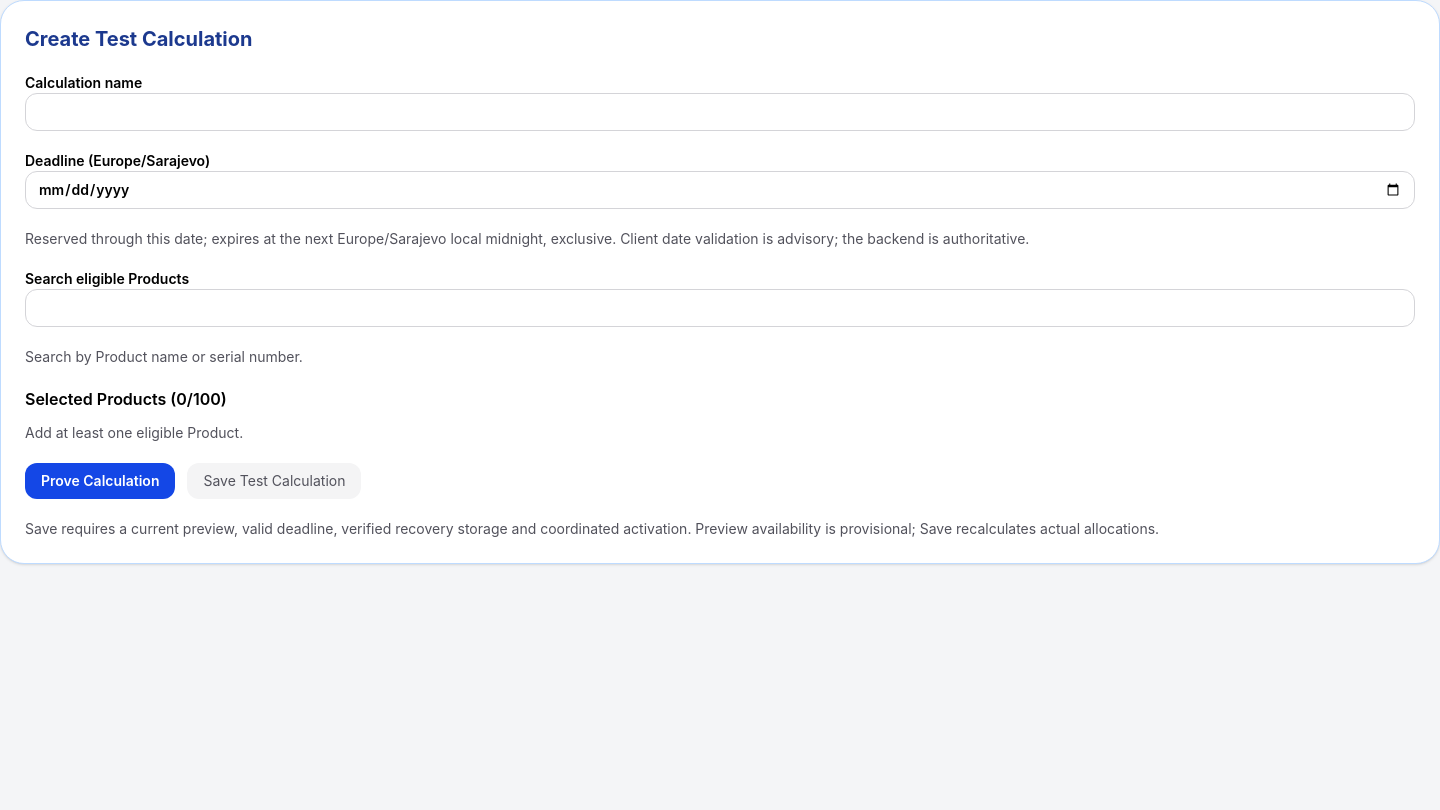
it: Test Calculation editor › searches via the mocked service, adds/removes and rejects duplicate selections
This screenshot has width=1440, height=810.
Type "Component" into the search field labelled "Search eligible Products" at (720, 308), box x1=25 y1=289 x2=1415 y2=327
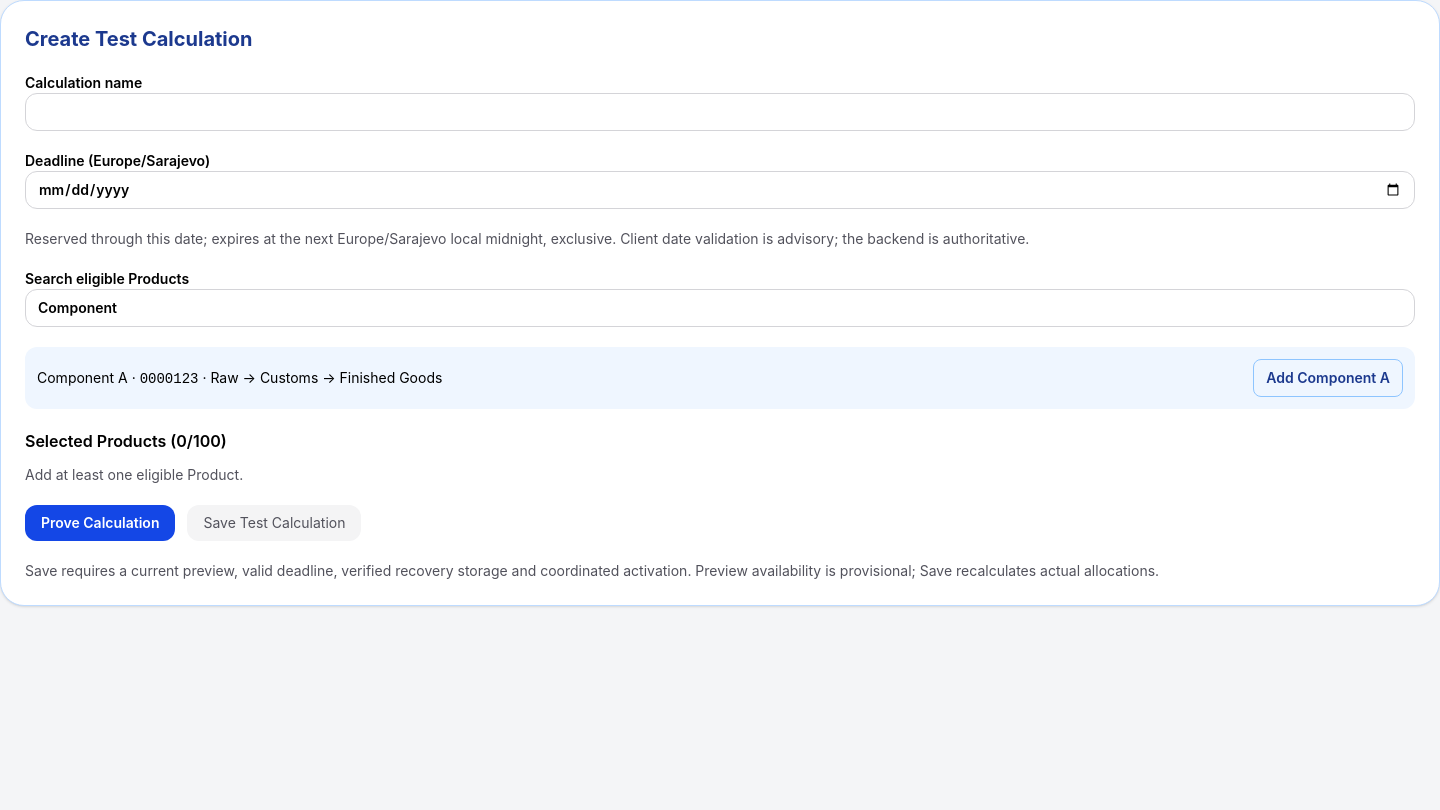
Click the button "Add Component A" at (1328, 378), box x1=1253 y1=359 x2=1403 y2=397
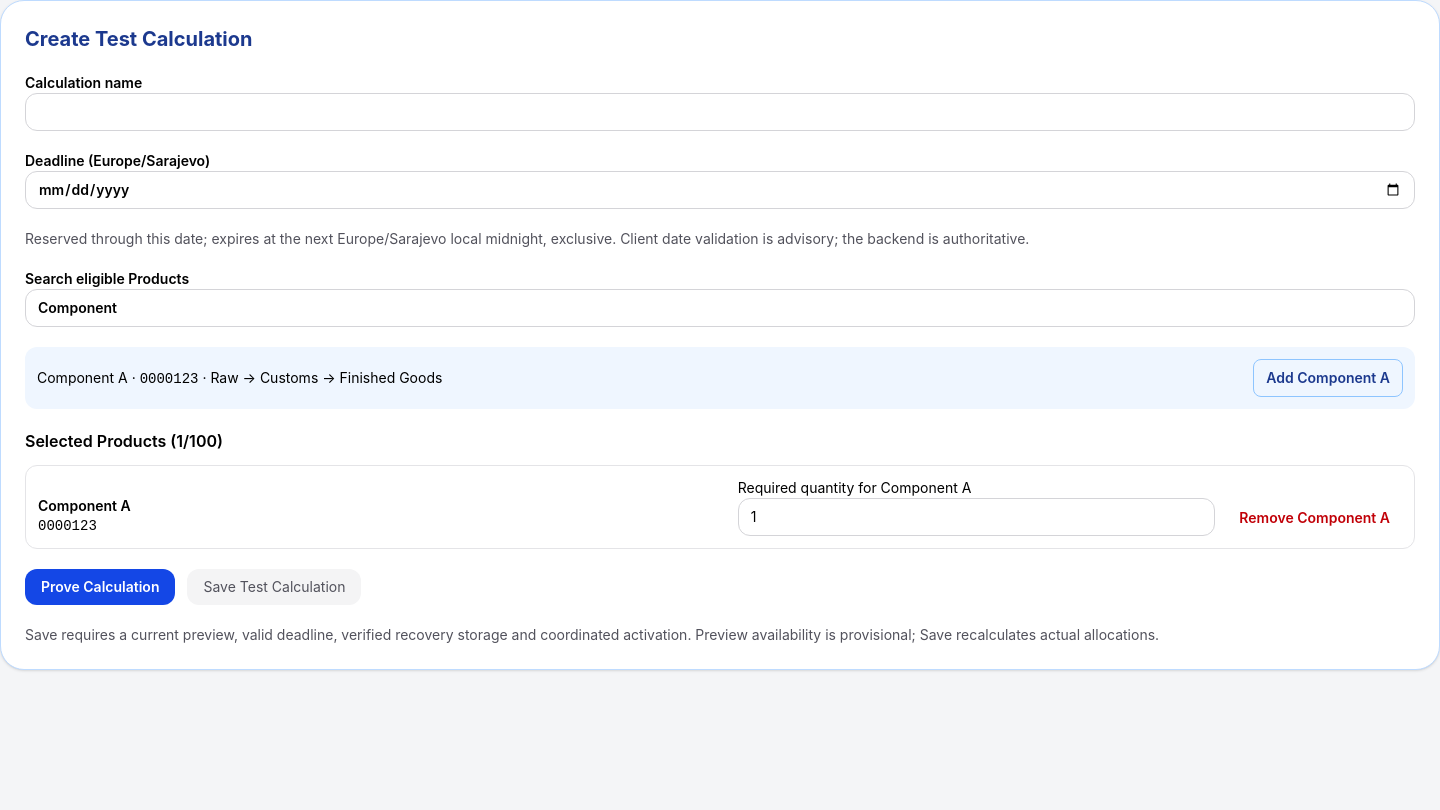
Result: the text "0000123" next to "Raw → Customs → Finished Goods" is shown at x1=140 y1=370 x2=198 y2=386
Result: the field labelled "Required quantity for Component A" holds "1" at x1=738 y1=498 x2=1215 y2=536
Click the button "Add Component A" at (1328, 378), box x1=1253 y1=359 x2=1403 y2=397
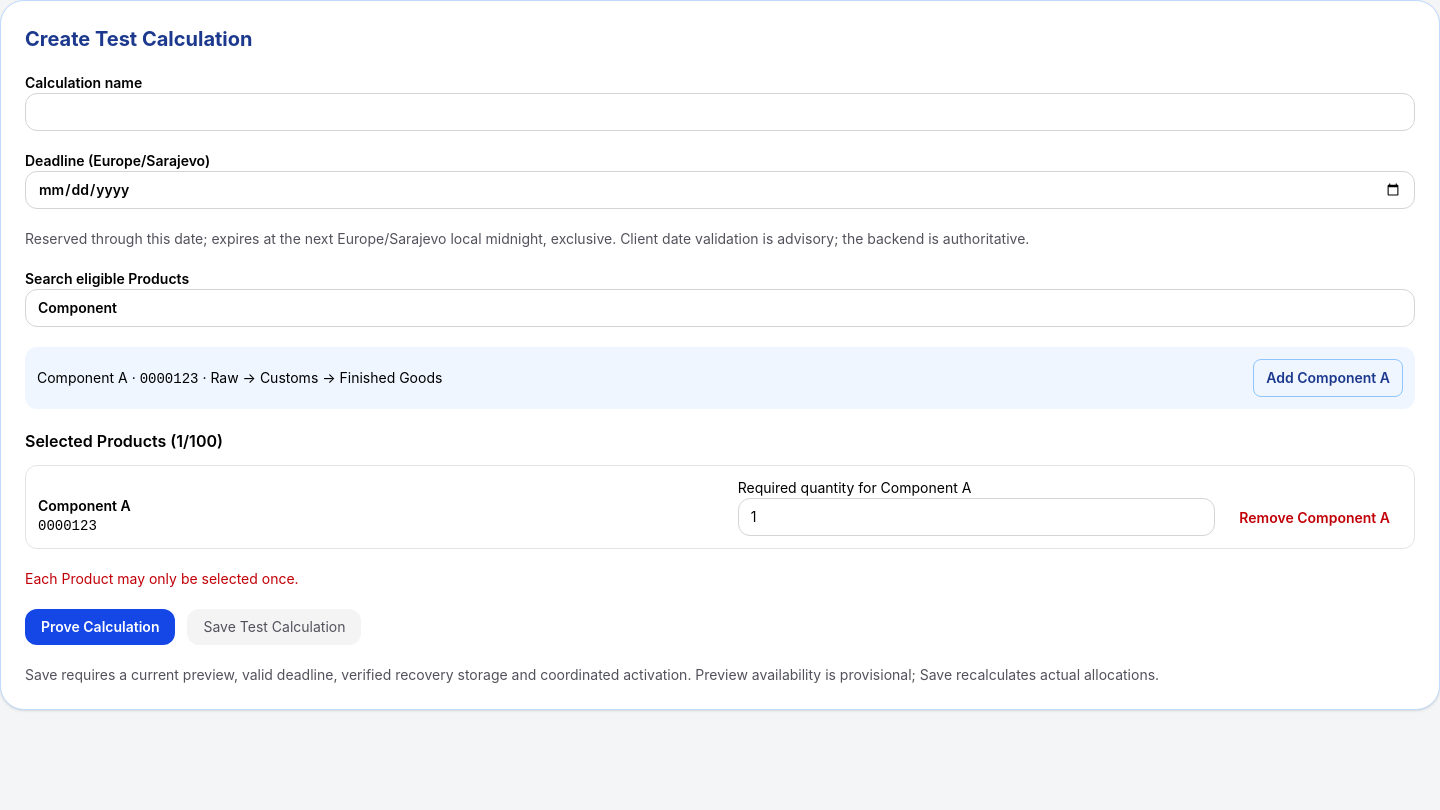
Result: the number of buttons "Remove Component A" is 1
Result: the message shows "only be selected once" at x1=25 y1=570 x2=299 y2=587
Click the button "Remove Component A" at (1315, 518), box x1=1227 y1=500 x2=1402 y2=536
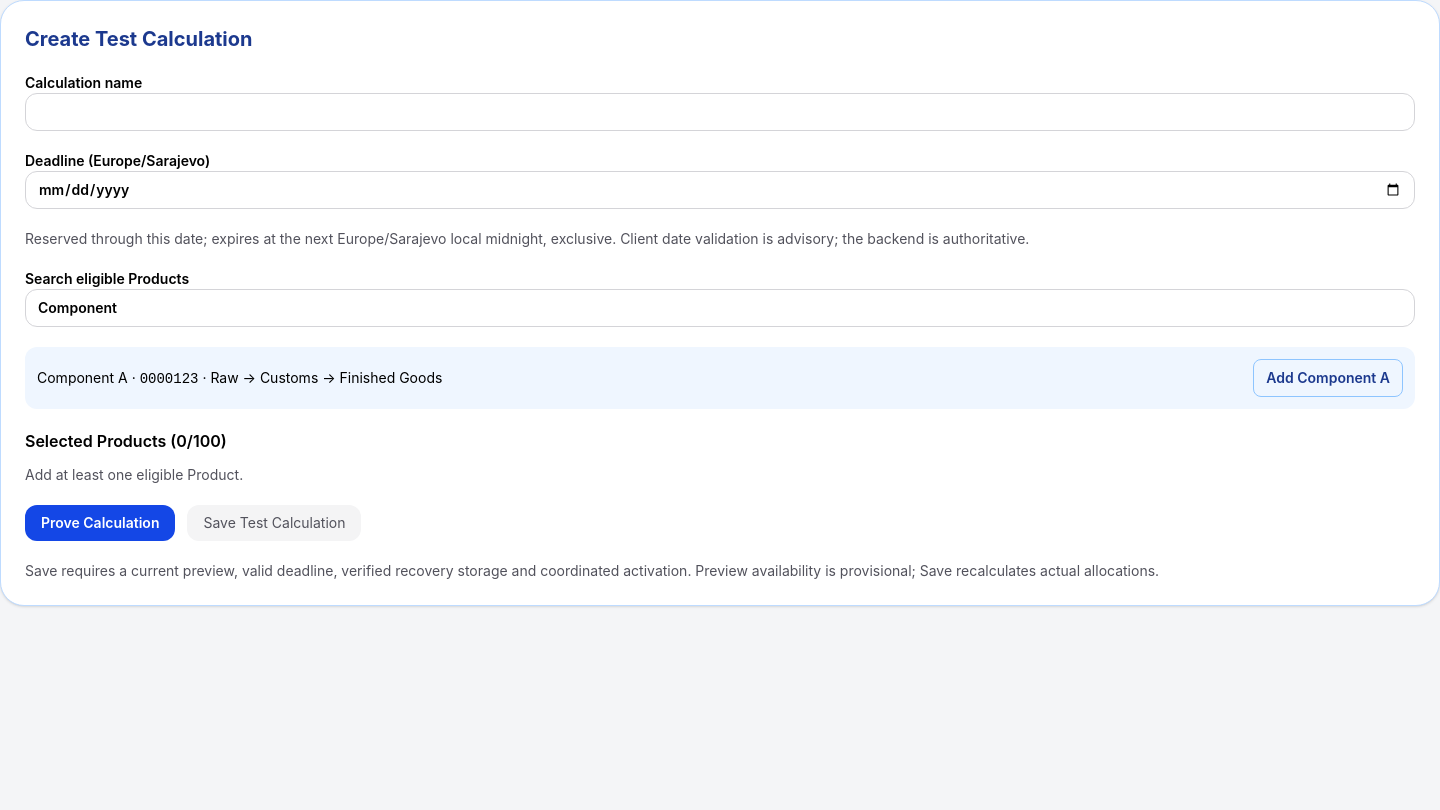
Result: the label labelled "Required quantity for Component A" is gone
